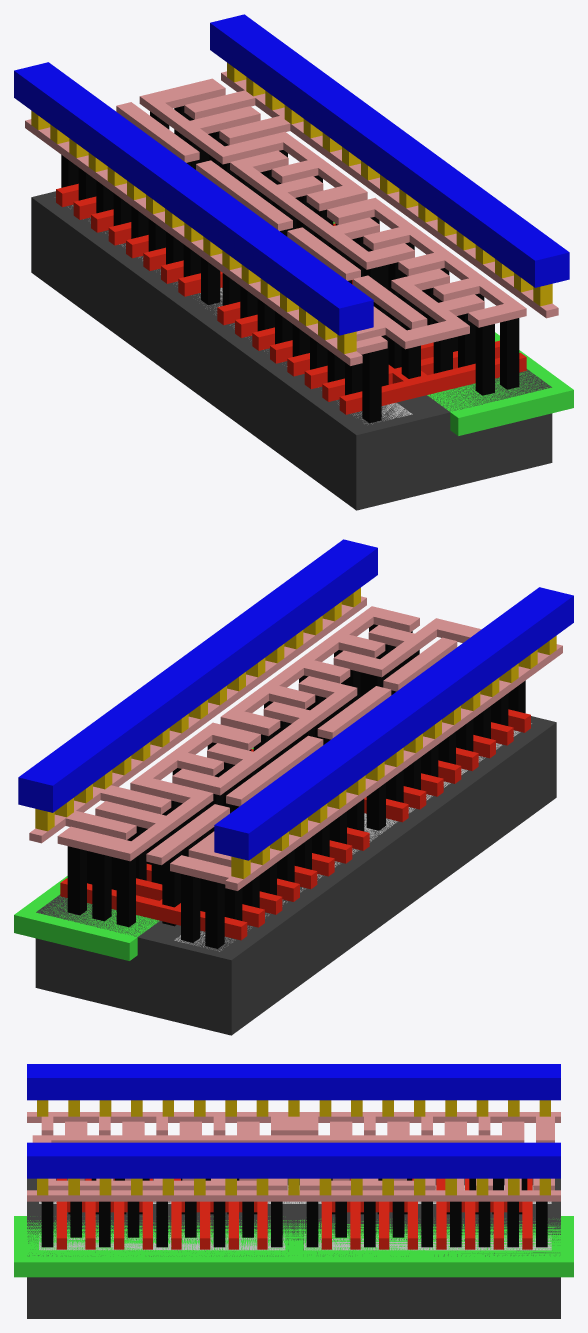
File: sky130_fd_sc_hd__nor4_4.obj
3 views of the same model, one above another, from view 1: azimuth 30°, elevation 25°; view 2: azimuth 150°, elevation 25°; view 3: azimuth 270°, elevation 25° (orthographic). The views are drawn at different scales.
Parts seen in each view (by area): view 1: subs, metal1, li, licon, poly, mcon, nwell; view 2: subs, metal1, li, licon, poly, mcon, nwell, diff; view 3: metal1, subs, li, nwell, licon, poly, mcon, tap.
Boxes of the visible parts, x1=… form: subs: x1=31, y1=191, x2=552, y2=510; metal1: x1=14, y1=14, x2=569, y2=335; li: x1=25, y1=71, x2=558, y2=365; licon: x1=61, y1=106, x2=519, y2=423; poly: x1=56, y1=183, x2=526, y2=414; mcon: x1=31, y1=62, x2=552, y2=353; nwell: x1=333, y1=222, x2=573, y2=435; subs: x1=35, y1=716, x2=556, y2=1035; metal1: x1=18, y1=539, x2=573, y2=860; li: x1=29, y1=596, x2=562, y2=890; licon: x1=67, y1=624, x2=525, y2=948; poly: x1=60, y1=709, x2=530, y2=940; mcon: x1=35, y1=587, x2=556, y2=878; nwell: x1=14, y1=747, x2=253, y2=960; diff: x1=174, y1=723, x2=531, y2=951; metal1: x1=27, y1=1064, x2=560, y2=1178; subs: x1=27, y1=1178, x2=560, y2=1318; li: x1=27, y1=1112, x2=560, y2=1201; nwell: x1=14, y1=1216, x2=573, y2=1277; licon: x1=41, y1=1178, x2=547, y2=1247; poly: x1=56, y1=1178, x2=532, y2=1249; mcon: x1=37, y1=1100, x2=550, y2=1195; tap: x1=39, y1=1231, x2=551, y2=1250.
Bounding box in the file's own units: 3.2 × 2.74 × 8.2.
